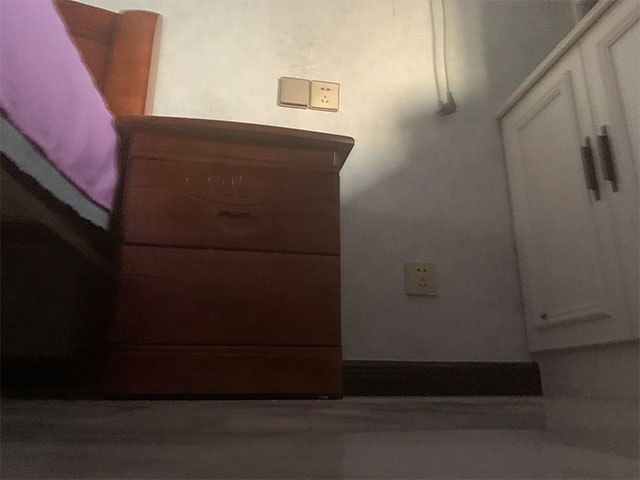bed: (1, 1, 165, 393)
cabinet: (98, 115, 355, 402), (494, 1, 640, 399)
